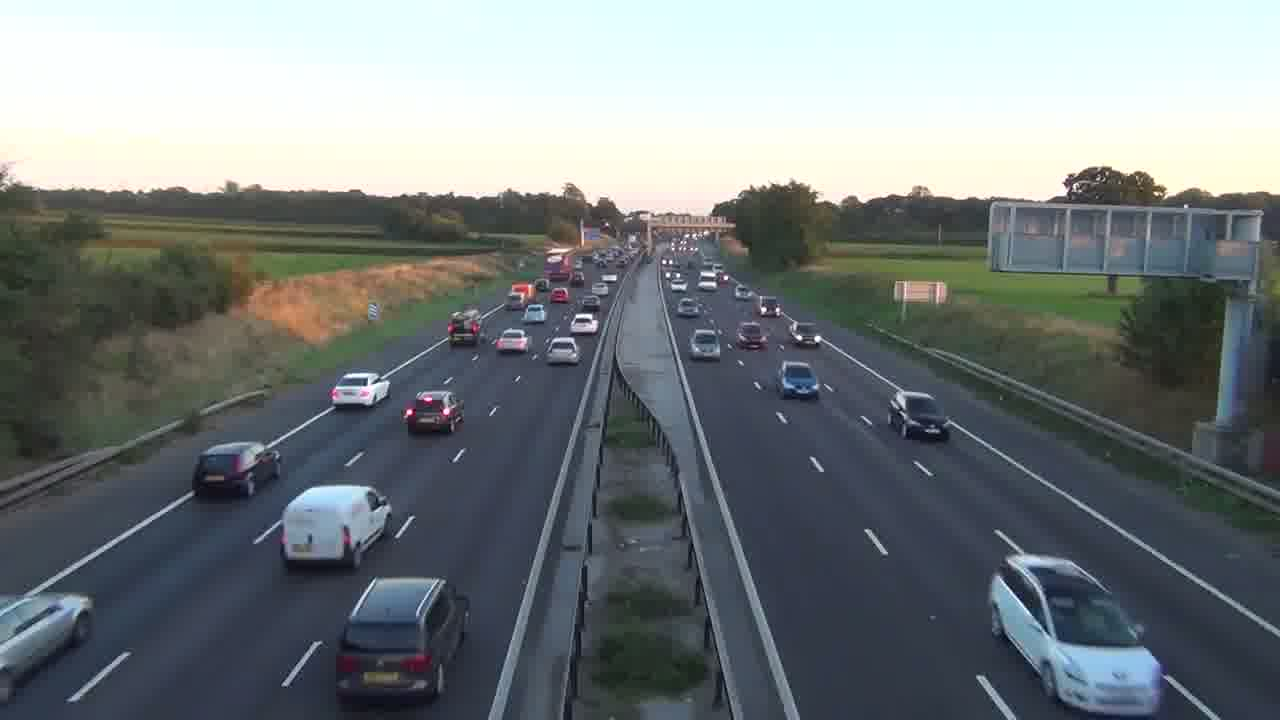car: (988, 552, 1165, 716), (334, 575, 470, 706), (0, 589, 96, 685), (191, 440, 282, 498), (888, 389, 949, 441), (402, 389, 465, 435), (329, 371, 391, 408), (777, 359, 820, 400), (688, 328, 721, 361), (735, 320, 770, 351), (545, 336, 581, 366), (568, 312, 599, 335)
truck: (280, 482, 392, 570)
